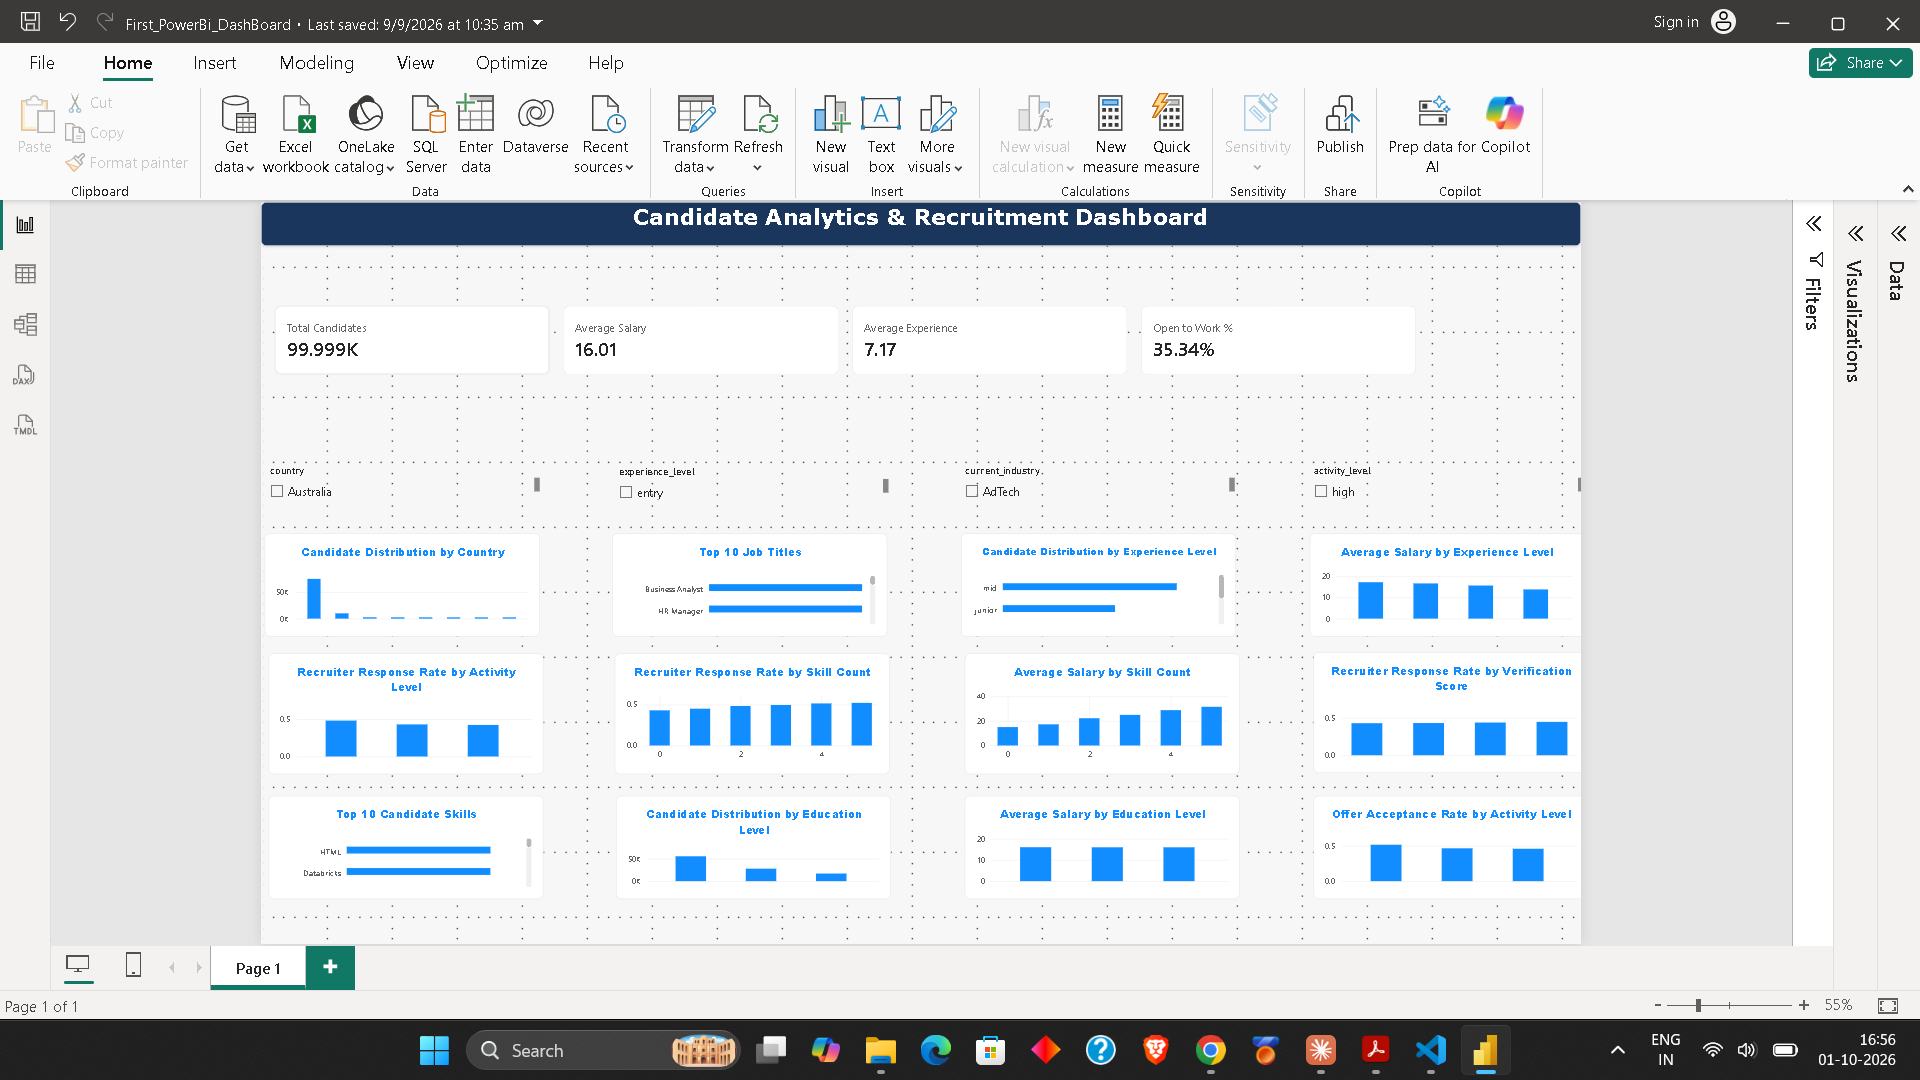

The dashboard page shown, as its layout file describes it:
{"tool":"powerbi","page":{"name":"Page 1","canvas":[1920,1080],"ordinal":0},"visuals":[{"type":"cardVisual","fields":{"Data":["Count(final_candidate_dataset.candidate_id)"]},"box":[20,150,400,100],"z":0},{"type":"cardVisual","fields":{"Data":["Avg(final_candidate_dataset.expected_salary_mid_lpa)"]},"box":[440,150,400,100],"z":1000},{"type":"cardVisual","fields":{"Data":["Avg(final_candidate_dataset.years_of_experience)"]},"box":[860,150,400,100],"z":2000},{"type":"cardVisual","fields":{"Data":["final_candidate_dataset.Open to Work %"]},"box":[1280,150,400,100],"z":3000},{"type":"clusteredColumnChart","title":"Candidate Distribution by Country","fields":{"Category":["final_candidate_dataset.country"],"Y":["Count(final_candidate_dataset.candidate_id)"]},"box":[4.8,481.2,400,150],"z":4000},{"type":"clusteredBarChart","title":"Top 10 Job Titles","fields":{"Category":["final_candidate_dataset.current_title"],"Y":["CountNonNull(final_candidate_dataset.candidate_id)"]},"box":[511.4,481.2,400,150],"z":5000},{"type":"clusteredBarChart","title":"Candidate Distribution by Experience Level","fields":{"Category":["final_candidate_dataset.experience_level"],"Y":["CountNonNull(final_candidate_dataset.candidate_id)"]},"box":[1018.1,481.2,400,150],"z":6000},{"type":"clusteredColumnChart","title":"Average Salary by Experience Level","fields":{"Category":["final_candidate_dataset.experience_level"],"Y":["Avg(final_candidate_dataset.expected_salary_mid_lpa)"]},"box":[1524.8,481.2,400,150],"z":7000},{"type":"clusteredColumnChart","title":"Recruiter Response Rate by Skill Count","fields":{"Category":["final_candidate_dataset.skill_count"],"Y":["Avg(final_candidate_dataset.recruiter_response_rate)"]},"box":[514.5,655.8,400,176],"z":8000},{"type":"clusteredColumnChart","title":"Average Salary by Skill Count","fields":{"Category":["final_candidate_dataset.skill_count"],"Y":["Avg(final_candidate_dataset.expected_salary_mid_lpa)"]},"box":[1023,655.8,400,176],"z":9000},{"type":"clusteredColumnChart","title":"Recruiter Response Rate by Verification Score","fields":{"Category":["final_candidate_dataset.verification_score"],"Y":["Avg(final_candidate_dataset.recruiter_response_rate)"]},"box":[1530.4,654.9,400,176],"z":10000},{"type":"clusteredColumnChart","title":"Offer Acceptance Rate by Activity Level","fields":{"Category":["final_candidate_dataset.activity_level"],"Y":["final_candidate_dataset.Average Valid Offer Acceptance"]},"box":[1530.4,862.9,400,150],"z":11000},{"type":"clusteredBarChart","title":"Top 10 Candidate Skills","fields":{"Category":["skills_df.name"],"Y":["CountNonNull(skills_df.name)"]},"box":[10.4,862.9,400,150],"z":12000},{"type":"clusteredColumnChart","title":"Candidate Distribution by Education Level","fields":{"Category":["final_candidate_dataset.highest_education_label"],"Y":["CountNonNull(final_candidate_dataset.candidate_id)"]},"box":[517,862.9,400,150],"z":13000},{"type":"clusteredColumnChart","title":"Average Salary by Education Level","fields":{"Category":["final_candidate_dataset.highest_education_label"],"Y":["Avg(final_candidate_dataset.expected_salary_mid_lpa)"]},"box":[1023.7,862.9,400,150],"z":14000},{"type":"textbox","box":[0,0,1920,64],"z":15000},{"type":"slicer","fields":{"Values":["final_candidate_dataset.country"]},"box":[4.8,381.7,400,65],"z":16000},{"type":"slicer","fields":{"Values":["final_candidate_dataset.experience_level"]},"box":[512,384,400,64],"z":17000},{"type":"slicer","fields":{"Values":["final_candidate_dataset.current_industry"]},"box":[1016.8,381.7,400,65],"z":18000},{"type":"slicer","fields":{"Values":["final_candidate_dataset.activity_level"]},"box":[1522.8,381.7,400,65],"z":19000},{"type":"clusteredColumnChart","title":"Recruiter Response Rate by Activity Level","fields":{"Category":["final_candidate_dataset.activity_level"],"Y":["Avg(final_candidate_dataset.recruiter_response_rate)"]},"box":[11.5,655.8,400,176],"z":20000}]}

Visuals, with their boxes on the page's 1920x1080 design canvas (x1, y1, x2, y2). These are canvas units, not pixel positions in the 1920x1080 screenshot, which may show the page scaled, cropped or inside an application window:
cardVisual - Count(final_candidate_dataset.candidate_id): BBox(20, 150, 420, 250)
cardVisual - Avg(final_candidate_dataset.expected_salary_mid_lpa): BBox(440, 150, 840, 250)
cardVisual - Avg(final_candidate_dataset.years_of_experience): BBox(860, 150, 1260, 250)
cardVisual - final_candidate_dataset.Open to Work %: BBox(1280, 150, 1680, 250)
"Candidate Distribution by Country" clusteredColumnChart: BBox(5, 481, 405, 631)
"Top 10 Job Titles" clusteredBarChart: BBox(511, 481, 911, 631)
"Candidate Distribution by Experience Level" clusteredBarChart: BBox(1018, 481, 1418, 631)
"Average Salary by Experience Level" clusteredColumnChart: BBox(1525, 481, 1925, 631)
"Recruiter Response Rate by Skill Count" clusteredColumnChart: BBox(514, 656, 914, 832)
"Average Salary by Skill Count" clusteredColumnChart: BBox(1023, 656, 1423, 832)
"Recruiter Response Rate by Verification Score" clusteredColumnChart: BBox(1530, 655, 1930, 831)
"Offer Acceptance Rate by Activity Level" clusteredColumnChart: BBox(1530, 863, 1930, 1013)
"Top 10 Candidate Skills" clusteredBarChart: BBox(10, 863, 410, 1013)
"Candidate Distribution by Education Level" clusteredColumnChart: BBox(517, 863, 917, 1013)
"Average Salary by Education Level" clusteredColumnChart: BBox(1024, 863, 1424, 1013)
textbox: BBox(0, 0, 1920, 64)
slicer - final_candidate_dataset.country: BBox(5, 382, 405, 447)
slicer - final_candidate_dataset.experience_level: BBox(512, 384, 912, 448)
slicer - final_candidate_dataset.current_industry: BBox(1017, 382, 1417, 447)
slicer - final_candidate_dataset.activity_level: BBox(1523, 382, 1923, 447)
"Recruiter Response Rate by Activity Level" clusteredColumnChart: BBox(12, 656, 412, 832)
